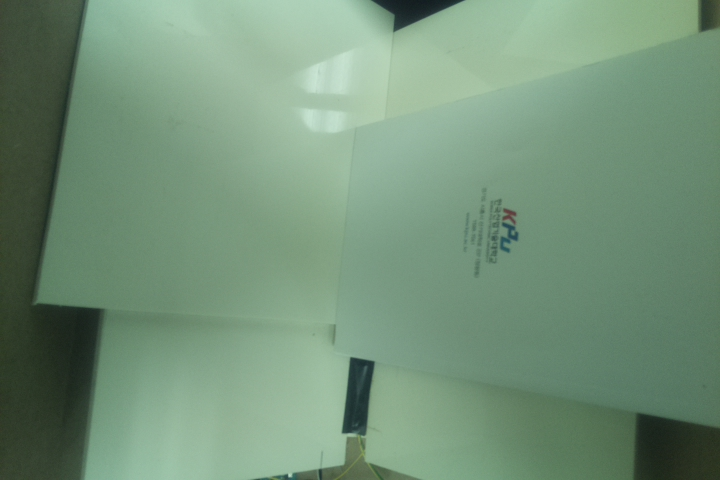book: (328, 24, 720, 429)
